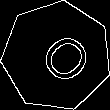O_SW: (23, 23, 90, 90)
